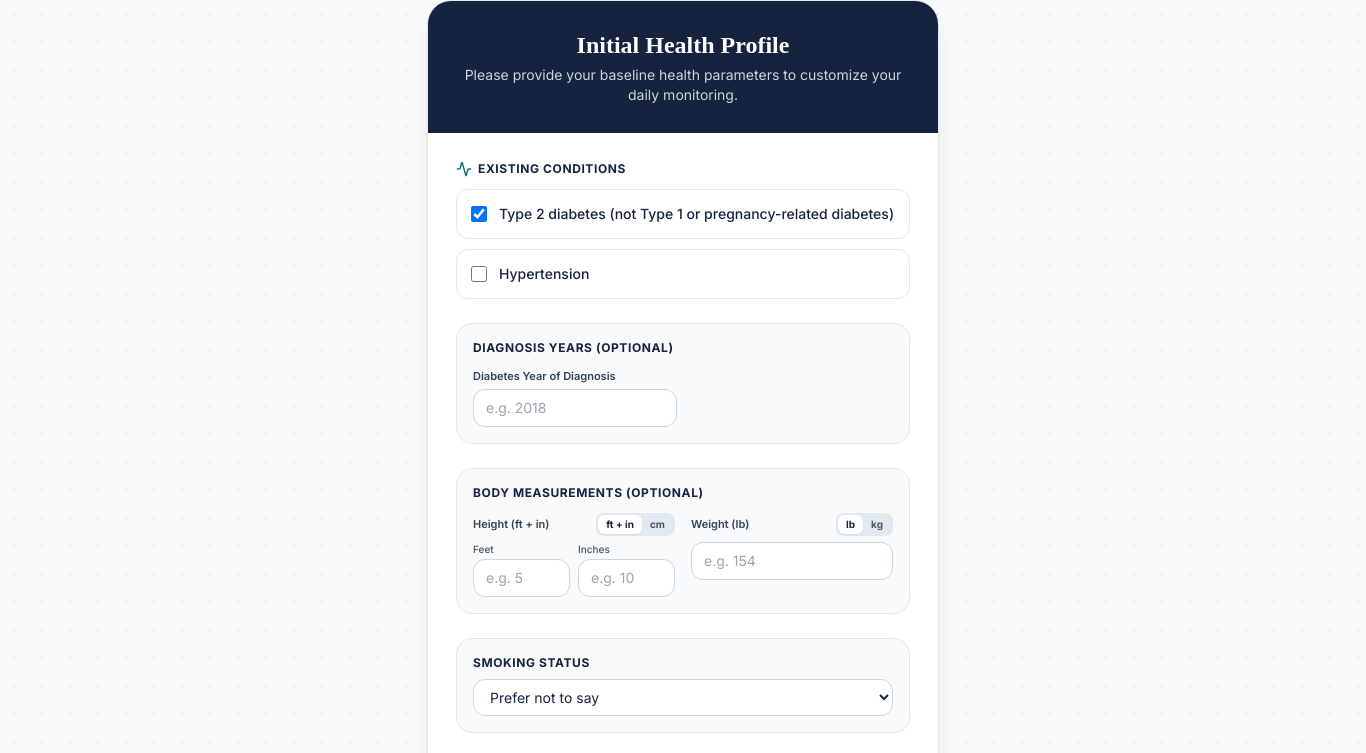
Scenario: Health Profile Unit Conversions & Toggles (Task 1) › Component Rendering & Interactions › inches 12 or more is rejected during form validation with inches error message
The image size is (1366, 753).
Step 1. Type "5" into the number field named "Feet" → (522, 578), box [473,558,570,596]
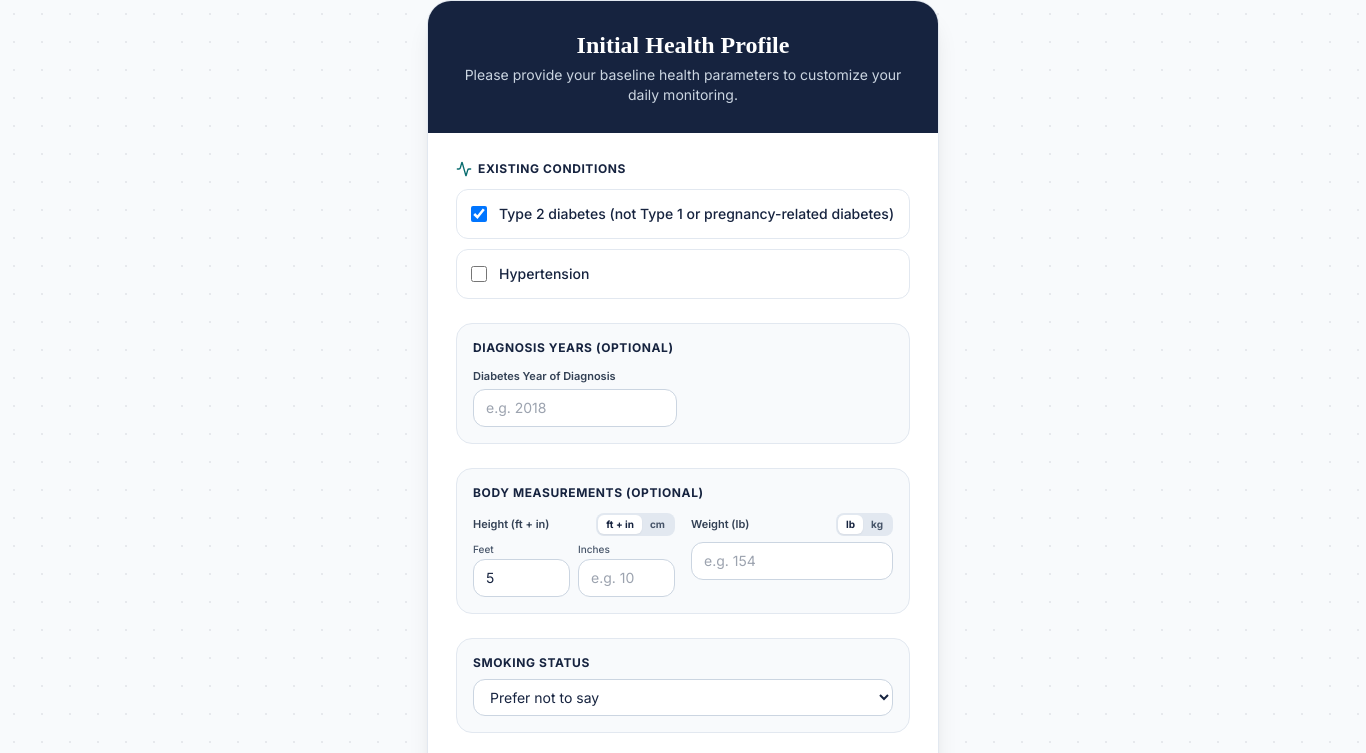
Step 2. Type "12" into the number field labelled "Inches" → (626, 578), box [578,558,675,596]
(page scrolled)
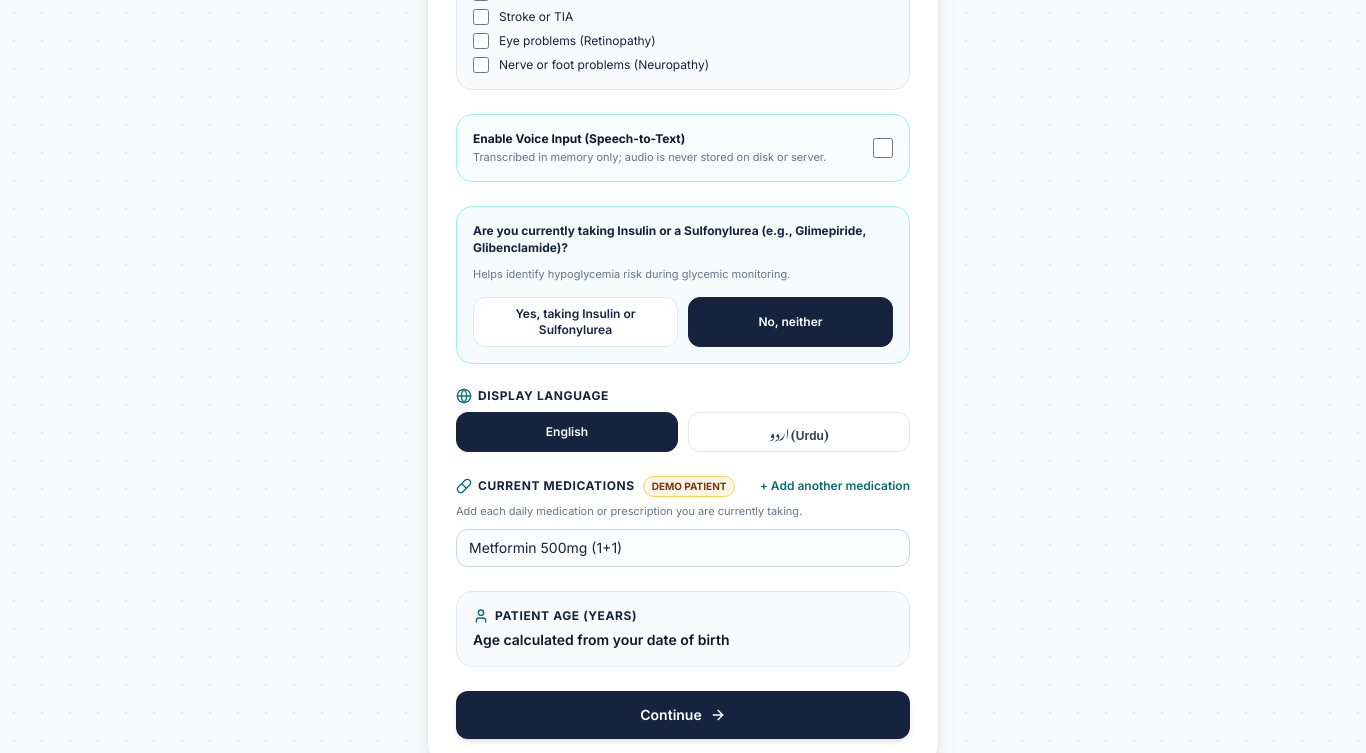
Step 3. Click the button "Continue" → click(683, 715), box [456,691,910,739]
(page scrolled)
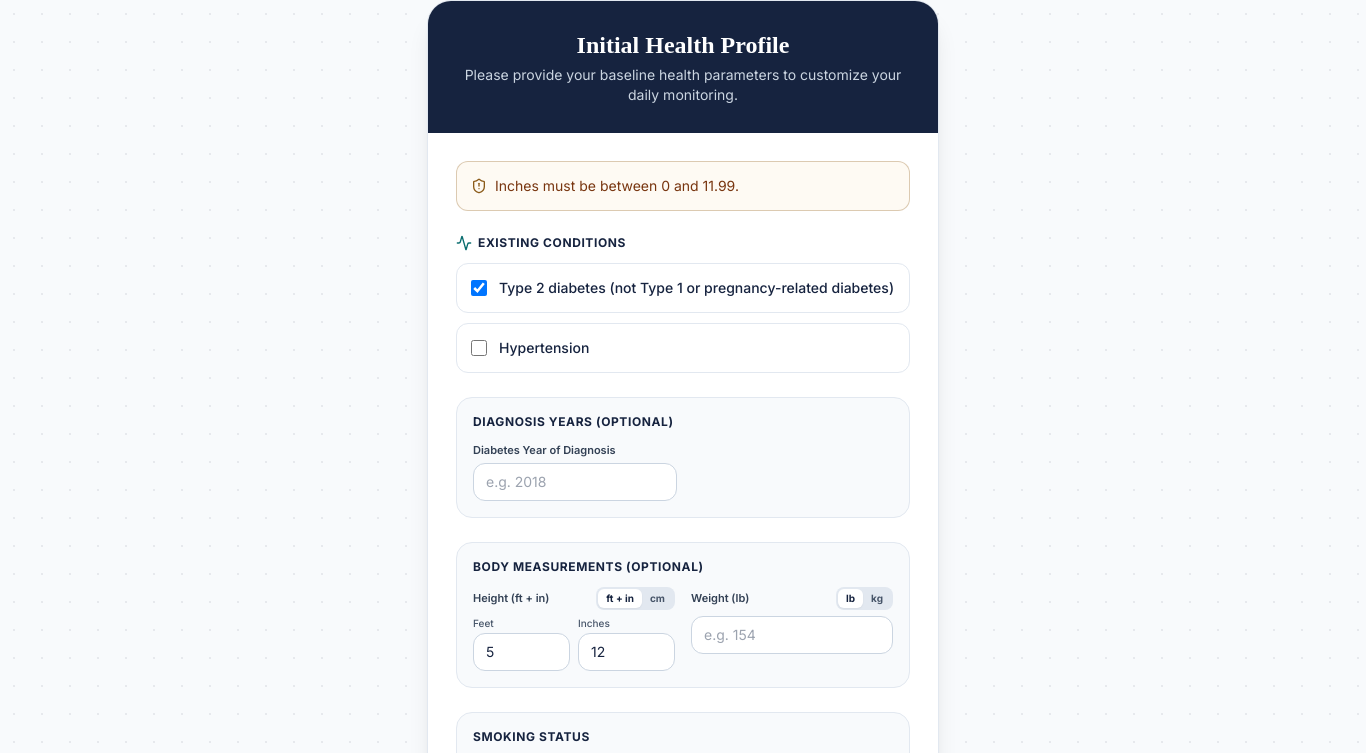
Result: the text "Inches must be between 0 and 11.99." is shown at [495,176,739,196]
